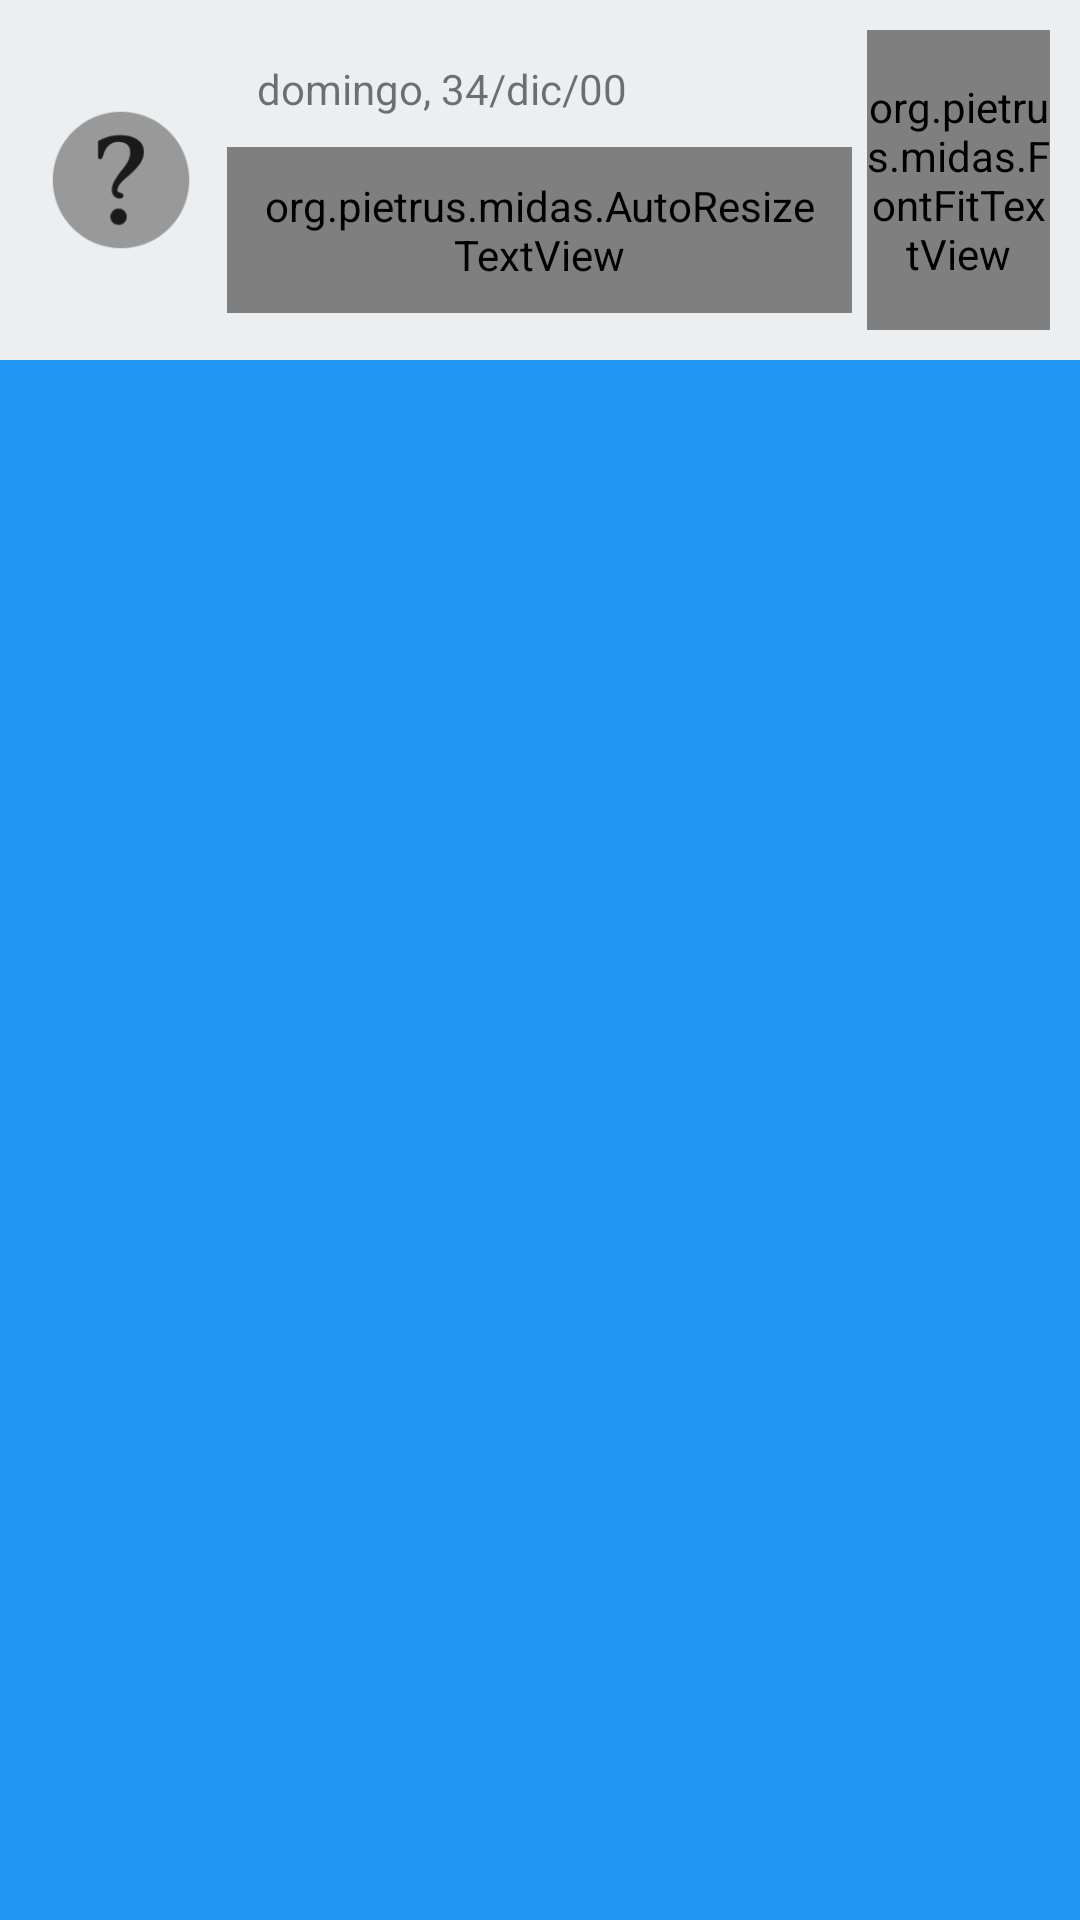

Locate icon controls on the screen. Image size 1080w x 1920h, boxes as (x1, y1, x2, y2).
interrogante: (53, 112, 189, 248)
